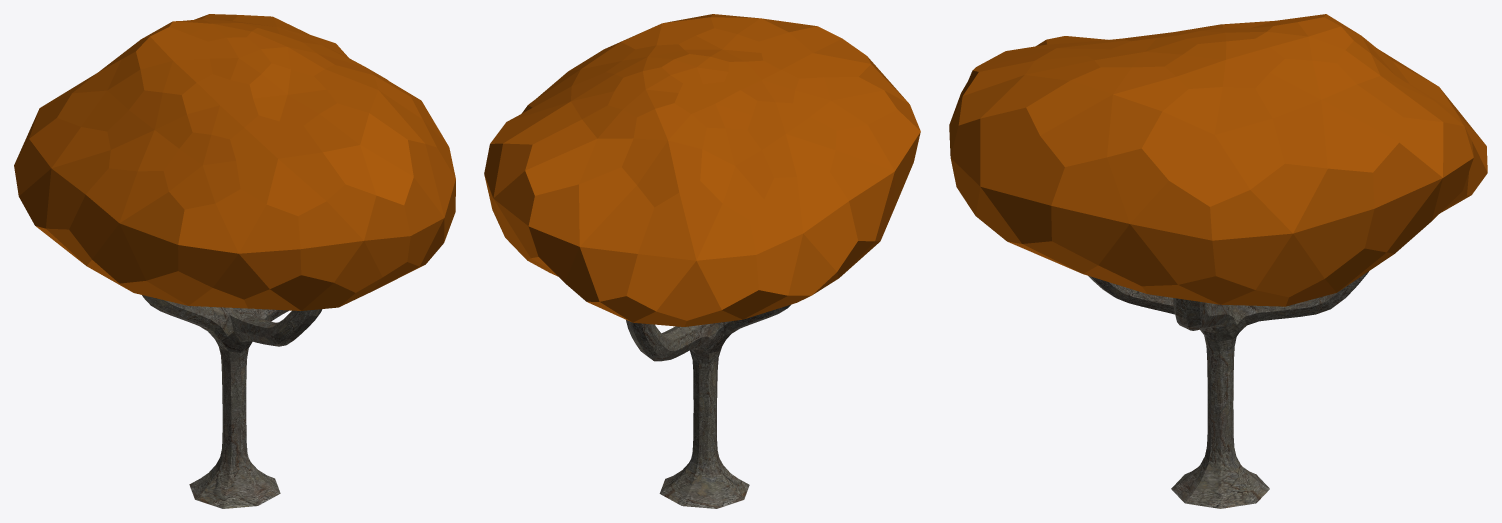
File: OrangeTree.fbx
3 views of the same model, side by side, from view 1: azimuth 30°, elevation 25°; view 2: azimuth 150°, elevation 25°; view 3: azimuth 270°, elevation 25° (orthographic). The views are drawn at different scales.
Visible parts, largest first — view 1: TreeTest.001; view 2: TreeTest.001; view 3: TreeTest.001.
Boxes of the visible parts, x1,y1,x2,y2 form: TreeTest.001: (14,14,455,508); TreeTest.001: (484,14,920,508); TreeTest.001: (949,14,1487,508).
Size of the model in its own units: 600 by 480 by 576.
